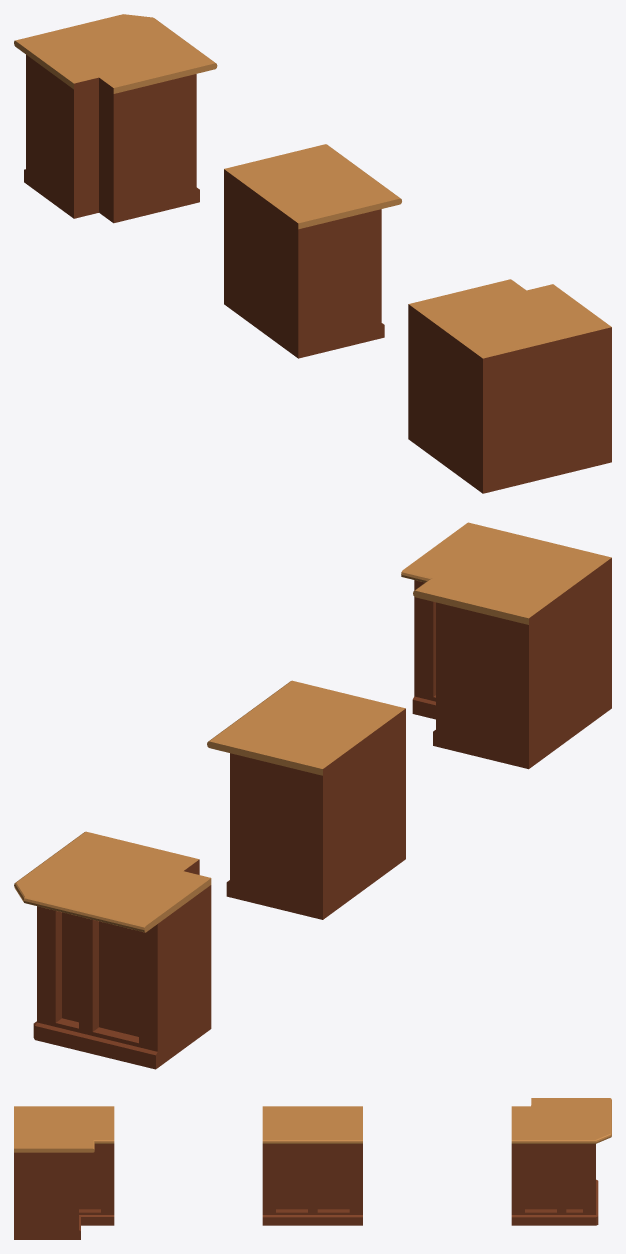
File: Restaurant_SetMesadas_NoTextures.fbx
3 views of the same model, one above another, from view 1: azimuth 30°, elevation 25°; view 2: azimuth 150°, elevation 25°; view 3: azimuth 270°, elevation 25° (orthographic). The views are drawn at different scales.
Parts seen in each view (by area): view 1: m_Mesada_Esquinera_Interior, m_Mesada_Esquinera_Exterior, m_Mesada_Intermedia; view 2: m_Mesada_Esquinera_Interior, m_Mesada_Esquinera_Exterior, m_Mesada_Intermedia; view 3: m_Mesada_Esquinera_Interior, m_Mesada_Intermedia, m_Mesada_Esquinera_Exterior.
Boxes of the visible parts, box(x1,y1,x2,y2) form: m_Mesada_Esquinera_Interior: box(408, 279, 611, 493); m_Mesada_Esquinera_Exterior: box(14, 14, 217, 223); m_Mesada_Intermedia: box(224, 144, 401, 358); m_Mesada_Esquinera_Interior: box(401, 522, 611, 769); m_Mesada_Esquinera_Exterior: box(14, 831, 211, 1069); m_Mesada_Intermedia: box(207, 680, 405, 919); m_Mesada_Esquinera_Interior: box(14, 1106, 114, 1239); m_Mesada_Intermedia: box(262, 1106, 362, 1225); m_Mesada_Esquinera_Exterior: box(511, 1098, 611, 1225).
Bounding box in the file's own units: 249 × 209 × 1245.
